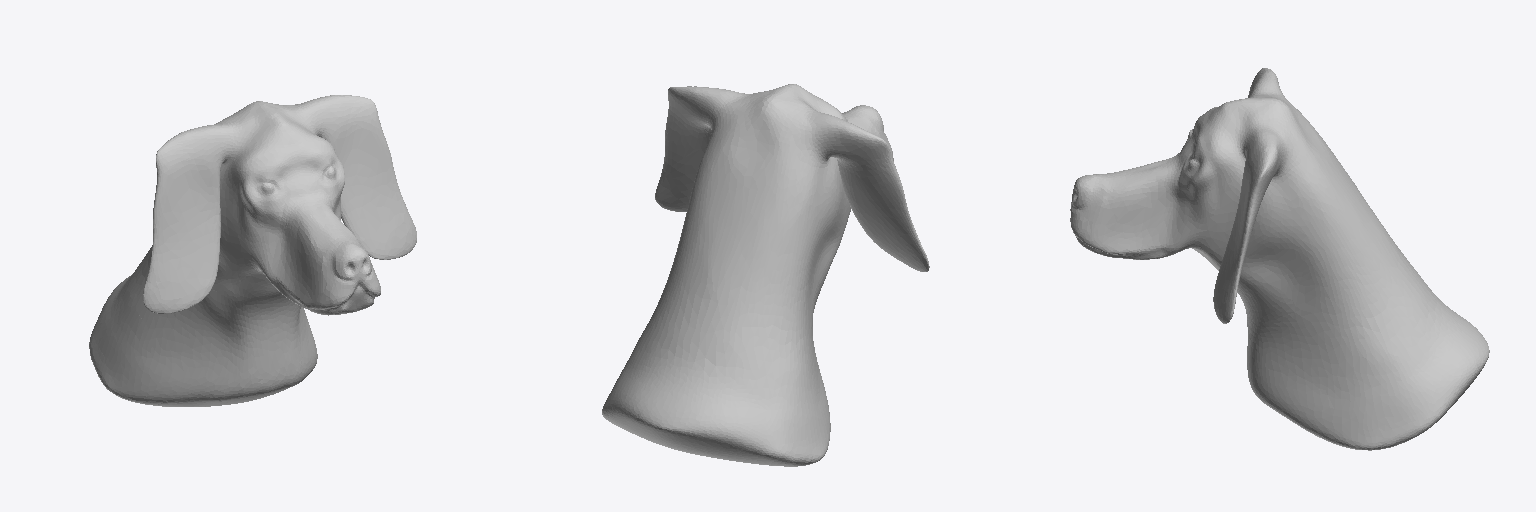
The model's file is input.obj.
3 views of the same model, side by side, from view 1: azimuth 30°, elevation 25°; view 2: azimuth 150°, elevation 25°; view 3: azimuth 270°, elevation 25° (orthographic).
Bounding box in the file's own units: 3.73 × 4.08 × 4.95.